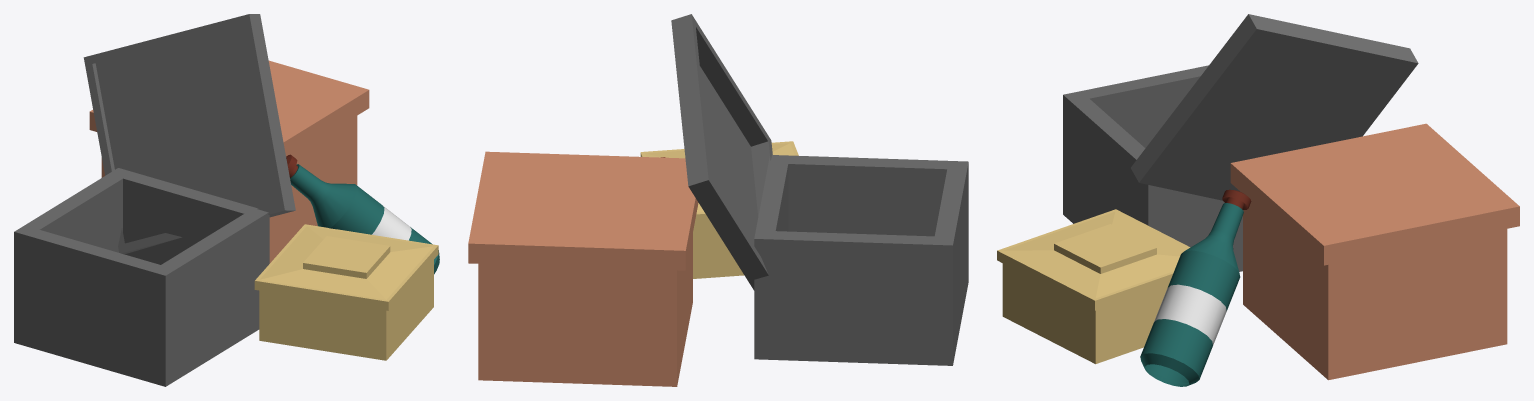
File: Decore 2.fbx
3 renders of one model, left to right at view 1: azimuth 30°, elevation 25°; view 2: azimuth 150°, elevation 25°; view 3: azimuth 270°, elevation 25°, orthographic. The views are drawn at different scales.
Parts seen in each view (by area): view 1: Cube.050, Cube.051, Cube.053, Cube.049, Circle.244; view 2: Cube.049, Cube.050, Cube.051, Cube.053; view 3: Cube.049, Cube.051, Cube.053, Cube.050, Circle.244.
Part boxes in pixels (x1,y1,x2,y2): Cube.050: (14, 168, 269, 386); Cube.051: (83, 14, 295, 253); Cube.053: (254, 224, 438, 360); Cube.049: (89, 60, 369, 263); Circle.244: (286, 154, 439, 274); Cube.049: (468, 151, 698, 386); Cube.050: (754, 155, 968, 365); Cube.051: (671, 14, 772, 290); Cube.053: (640, 141, 798, 278); Cube.049: (1230, 123, 1519, 380); Cube.051: (1131, 14, 1418, 200); Cube.053: (997, 209, 1190, 364); Cube.050: (1063, 65, 1242, 271); Circle.244: (1140, 189, 1251, 386).
Bounding box in the file's own units: 22.62 × 15.57 × 24.14.
